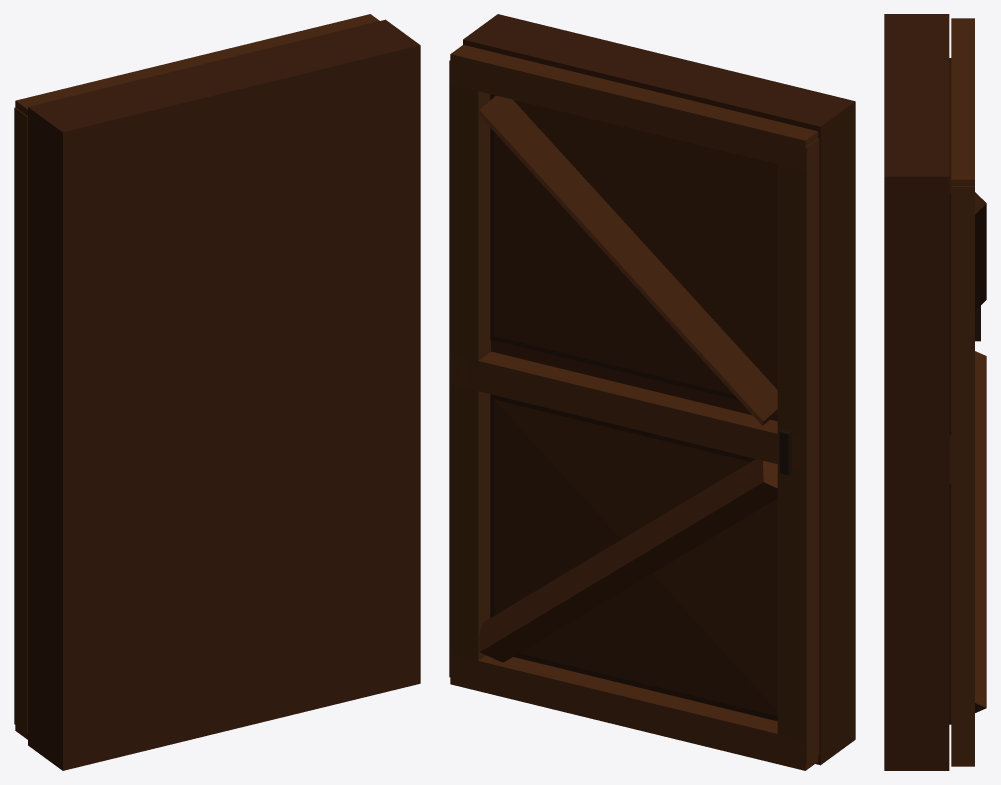
The model's file is SM_GateLeafRight.fbx.
3 views of the same model, side by side, from view 1: azimuth 30°, elevation 25°; view 2: azimuth 150°, elevation 25°; view 3: azimuth 270°, elevation 25° (orthographic). The views are drawn at different scales.
Visible parts, largest first — view 1: SM_GateLeafRight • FBX; view 2: SM_GateLeafRight • FBX; view 3: SM_GateLeafRight • FBX.
Part boxes in pixels (x1,y1,x2,y2): SM_GateLeafRight • FBX: (14,14,420,770); SM_GateLeafRight • FBX: (449,14,855,770); SM_GateLeafRight • FBX: (884,14,986,770).
Bounding box in the file's own units: 680 × 182 × 1160.
